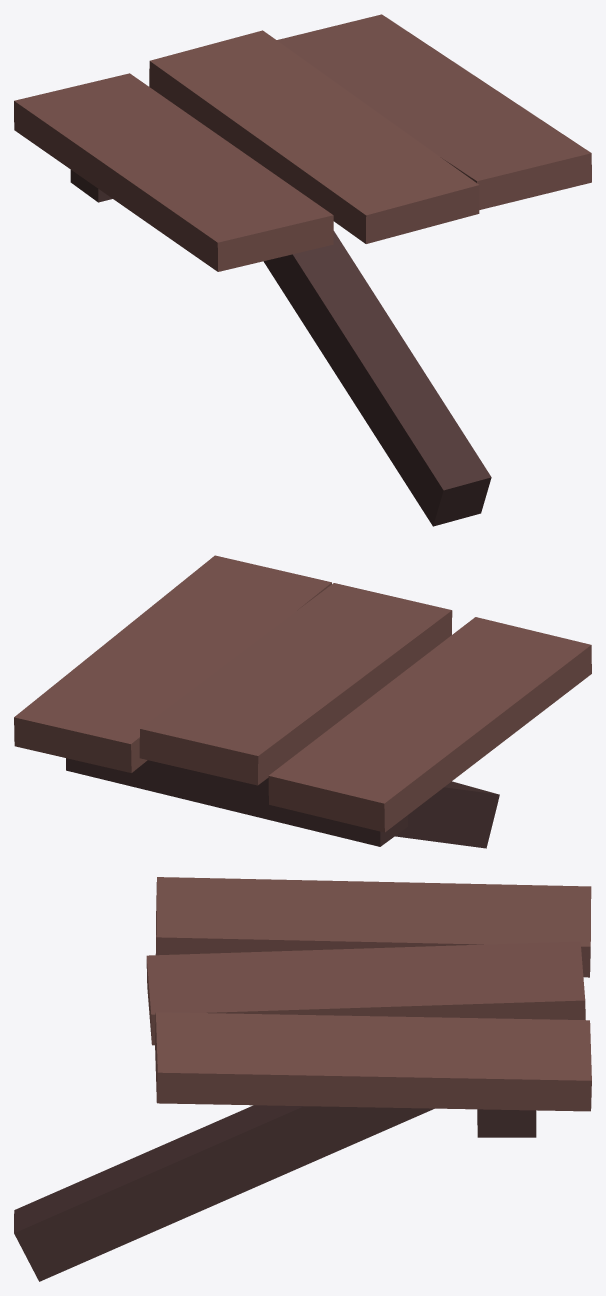
File: LightRoseWoodFloorSmallPlatform2.fbx
3 renders of one model, top to bottom at view 1: azimuth 30°, elevation 25°; view 2: azimuth 150°, elevation 25°; view 3: azimuth 270°, elevation 25°, orthographic. The views are drawn at different scales.
Parts seen in each view (by area): view 1: LightRoseWoodFloorSmallPlatform2; view 2: LightRoseWoodFloorSmallPlatform2; view 3: LightRoseWoodFloorSmallPlatform2.
Part boxes in pixels (bbox=[...]): LightRoseWoodFloorSmallPlatform2: bbox=[14, 14, 591, 526]; LightRoseWoodFloorSmallPlatform2: bbox=[14, 555, 591, 848]; LightRoseWoodFloorSmallPlatform2: bbox=[14, 877, 591, 1281].
Size of the model in its own units: 285 by 208 by 360.
